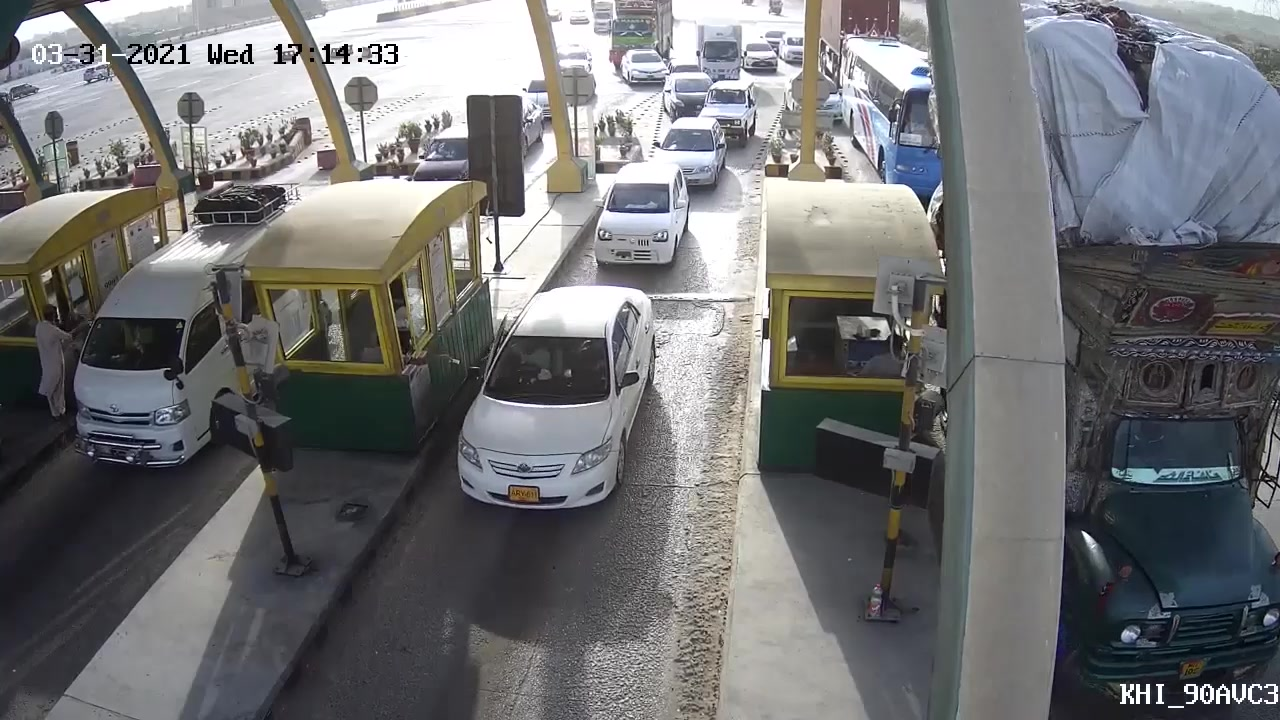F1: (450, 277, 668, 526), (584, 156, 692, 272)
